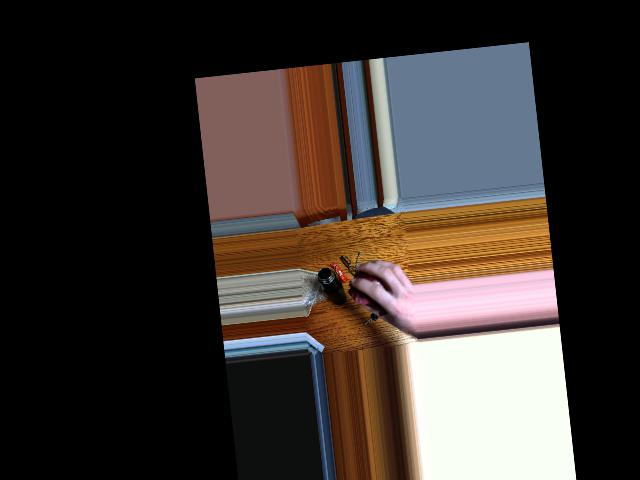onion: (351, 265, 388, 311)
